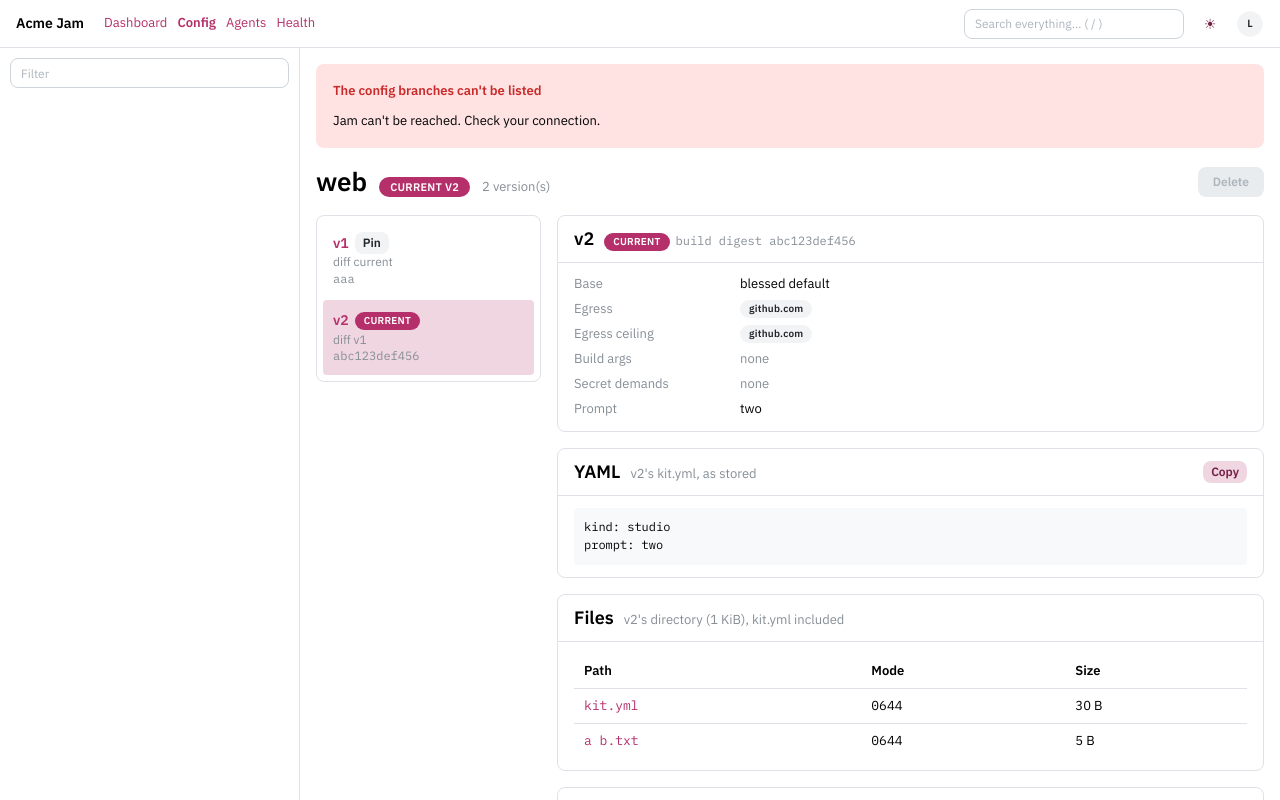
a kit's page › shows the rail with its links, and pins after confirming
Click the button "Pin": {"x": 372, "y": 243} [355,232,389,254]
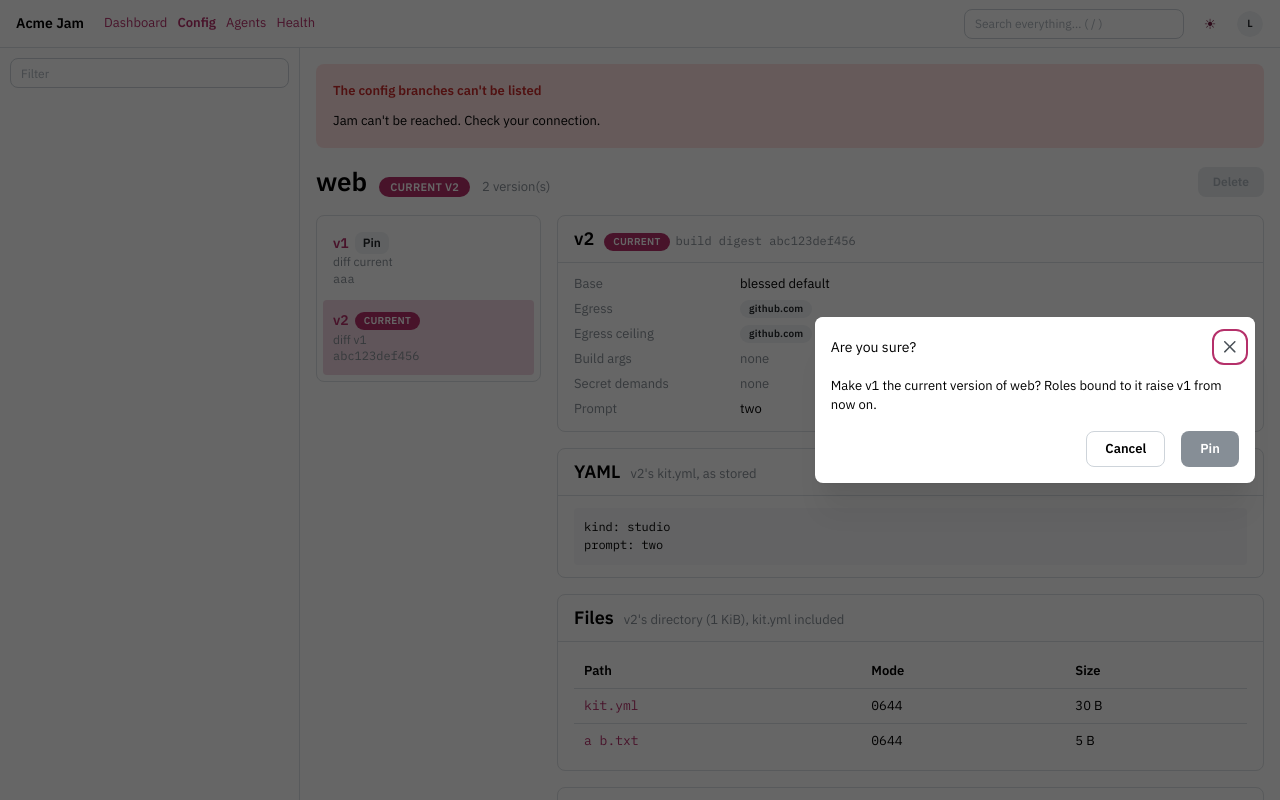
Expected: the text "Make v1 the current version of web? Roles bound to it raise v1 from now on." is shown, [831,377,1239,415]
Click the button "Pin": {"x": 1210, "y": 449} [1181,431,1239,467]
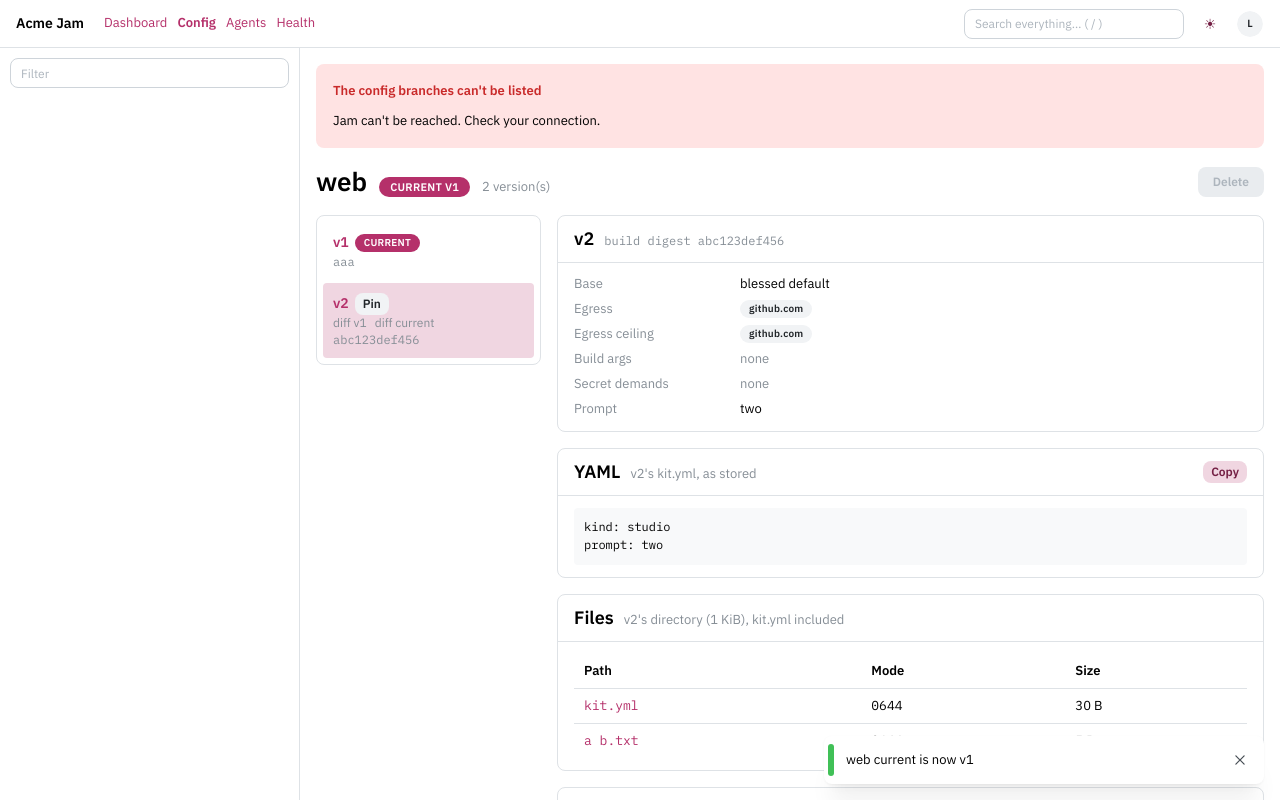
Expected: the text "web current is now v1" is shown, [846,751,974,768]
